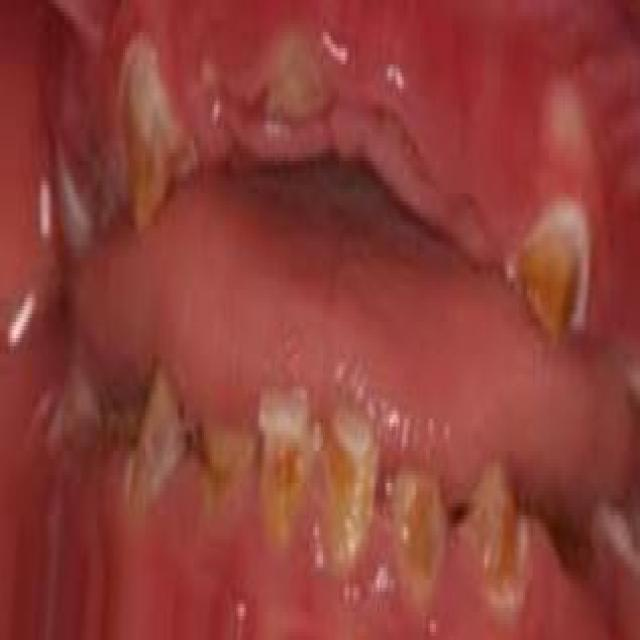caries: (115, 50, 191, 236), (517, 197, 595, 346), (126, 352, 196, 511), (251, 377, 318, 539), (462, 456, 529, 604), (322, 403, 380, 554), (390, 461, 456, 591), (200, 414, 260, 507)
